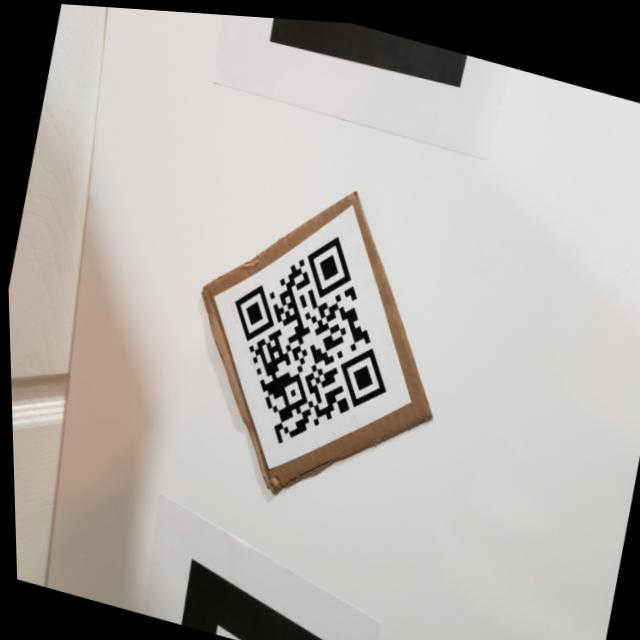QR_CODE: (189, 195, 422, 485)
